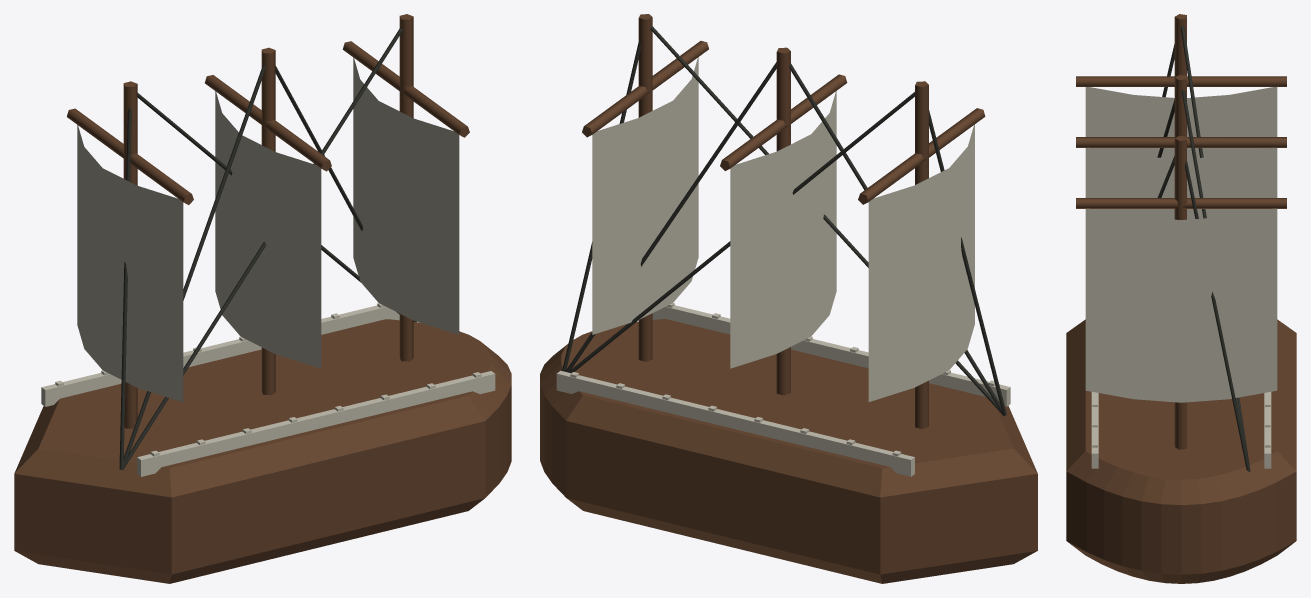
File: custom-vehicle-kalyon.glb
3 renders of one model, left to right at view 1: azimuth 30°, elevation 25°; view 2: azimuth 150°, elevation 25°; view 3: azimuth 270°, elevation 25°, orthographic. The views are drawn at different scales.
Parts seen in each view (by area): view 1: custom-vehicle-kalyon; view 2: custom-vehicle-kalyon; view 3: custom-vehicle-kalyon.
Boxes of the visible parts, x1,y1,x2,y2 form: custom-vehicle-kalyon: (14,14,511,583); custom-vehicle-kalyon: (540,14,1037,583); custom-vehicle-kalyon: (1066,14,1296,583).
Bounding box in the file's own units: 1 × 0.9024 × 0.4559.
